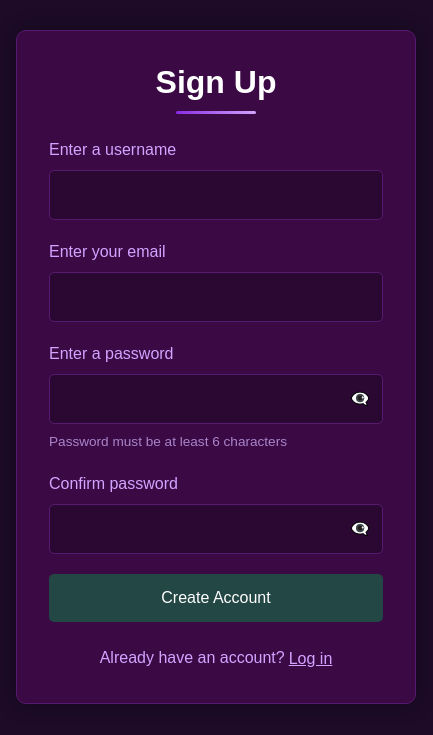
Test: SignUpPage › shows error when email is already in use
The width and height of the screenshot is (433, 735).
Type "testuser" into the field labelled "Enter a username" at (216, 195), box [49,170,383,220]
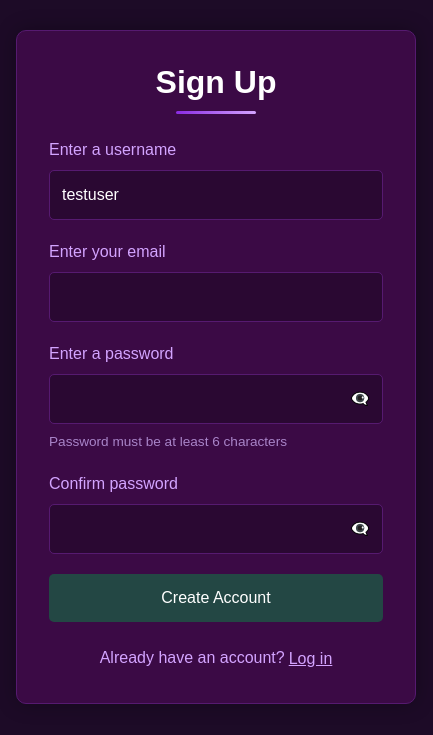
Type "test@example.com" into the field labelled "Enter your email" at (216, 297), box [49,272,383,322]
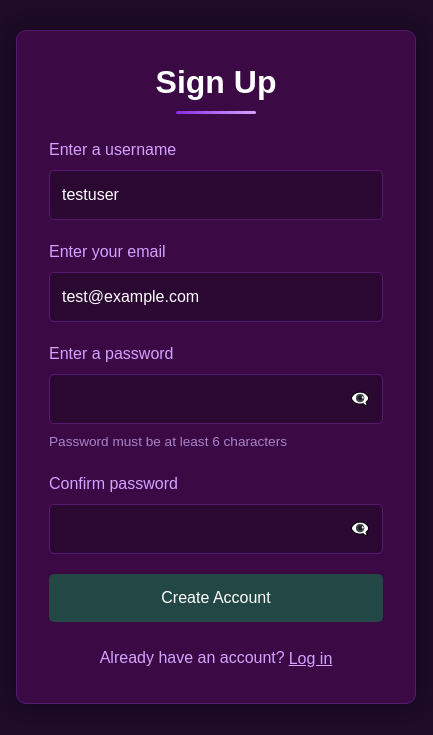
Type "password123" into the password field labelled "Enter a password" at (216, 399), box [49,374,383,424]
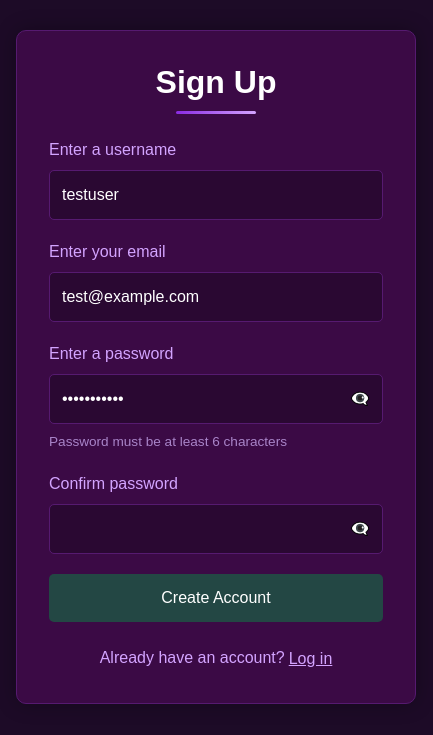
Type "password123" into the password field labelled "Confirm password" at (216, 529), box [49,504,383,554]
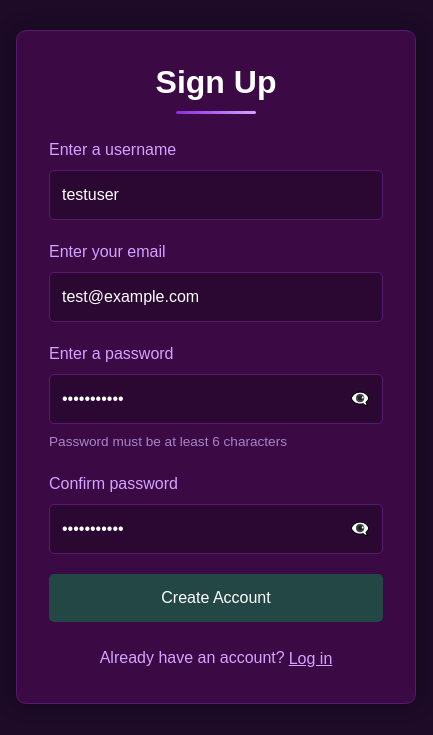
Click the button "Create Account" at (216, 598), box [49,574,383,622]
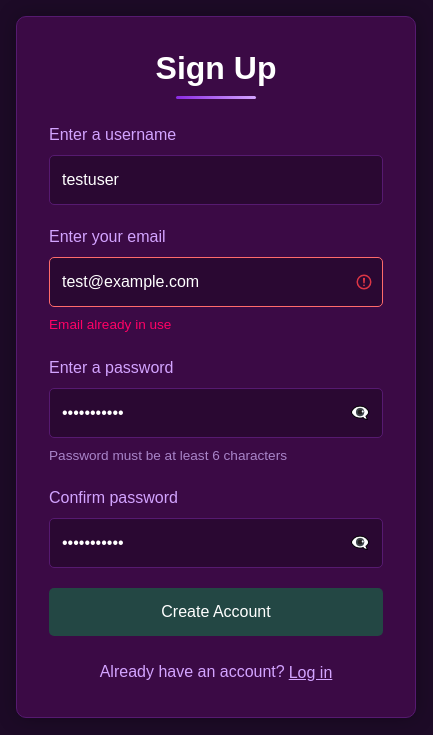
Now the text "Email already in use" is shown, box [49,317,171,332]
